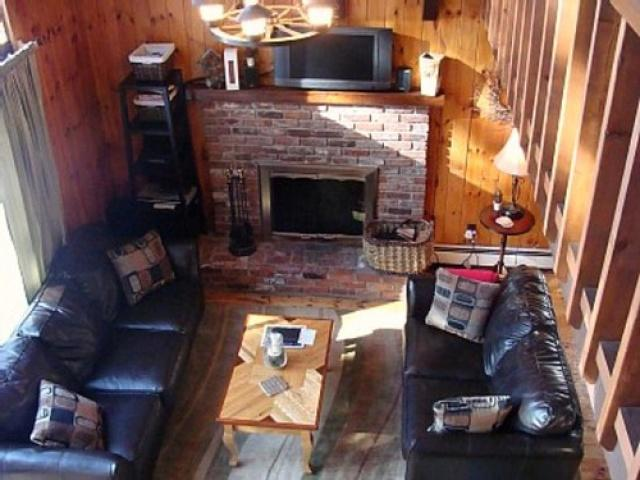Meja: (215, 311, 335, 474)
